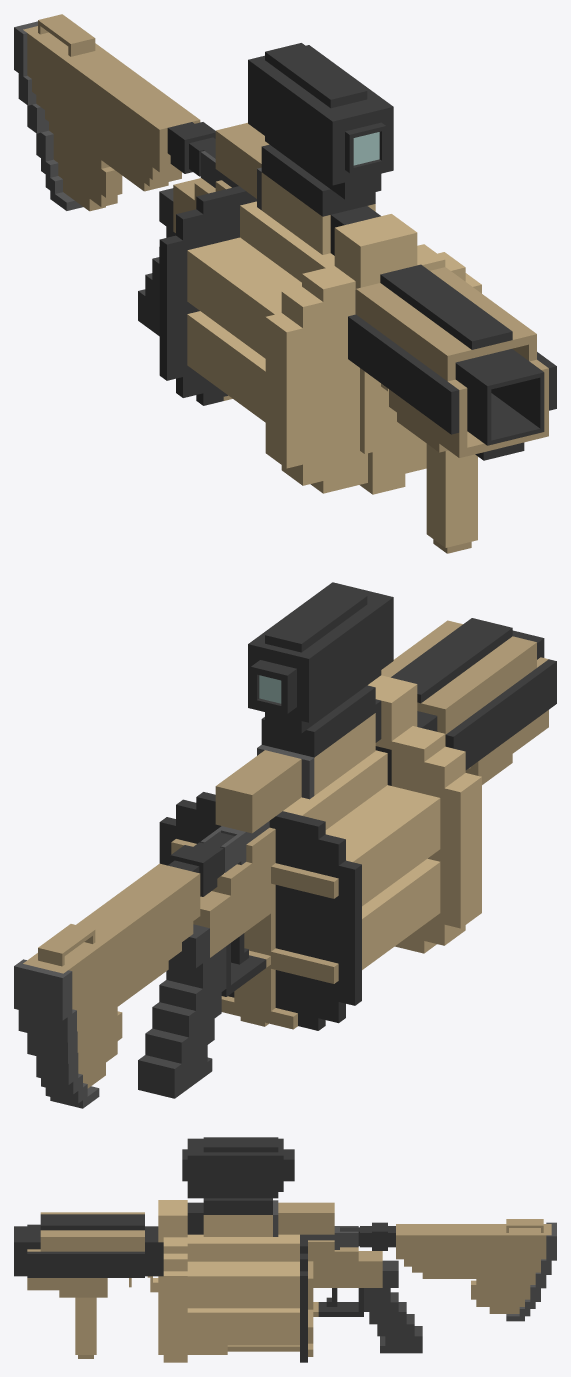
File: granade_launcher.fbx
3 views of the same model, one above another, from view 1: azimuth 30°, elevation 25°; view 2: azimuth 150°, elevation 25°; view 3: azimuth 270°, elevation 25° (orthographic). The views are drawn at different scales.
Visible parts, largest first — view 1: granade_launcher_base, granade_launcher_stock, granade_launcher_scope, granade_launcher_cylinder, granade_launcher_handle; view 2: granade_launcher_handle, granade_launcher_base, granade_launcher_stock, granade_launcher_cylinder, granade_launcher_scope; view 3: granade_launcher_base, granade_launcher_cylinder, granade_launcher_stock, granade_launcher_handle, granade_launcher_scope.
Part boxes in pixels (box(x1,y1,x2,y2)): granade_launcher_base: box(257, 144, 556, 553); granade_launcher_stock: box(14, 14, 215, 211); granade_launcher_scope: box(248, 43, 393, 214); granade_launcher_cylinder: box(187, 201, 334, 422); granade_launcher_handle: box(138, 122, 269, 405); granade_launcher_handle: box(138, 750, 361, 1098); granade_launcher_base: box(257, 618, 556, 953); granade_launcher_stock: box(14, 832, 234, 1108); granade_launcher_cylinder: box(283, 750, 440, 969); granade_launcher_scope: box(248, 582, 393, 733); granade_launcher_base: box(14, 1198, 278, 1362); granade_launcher_cylinder: box(187, 1234, 299, 1345); granade_launcher_stock: box(342, 1219, 556, 1321); granade_launcher_handle: box(227, 1202, 422, 1362); granade_launcher_scope: box(182, 1137, 294, 1198).
Size of the model in its own units: 28.8 by 52.8 by 122.
